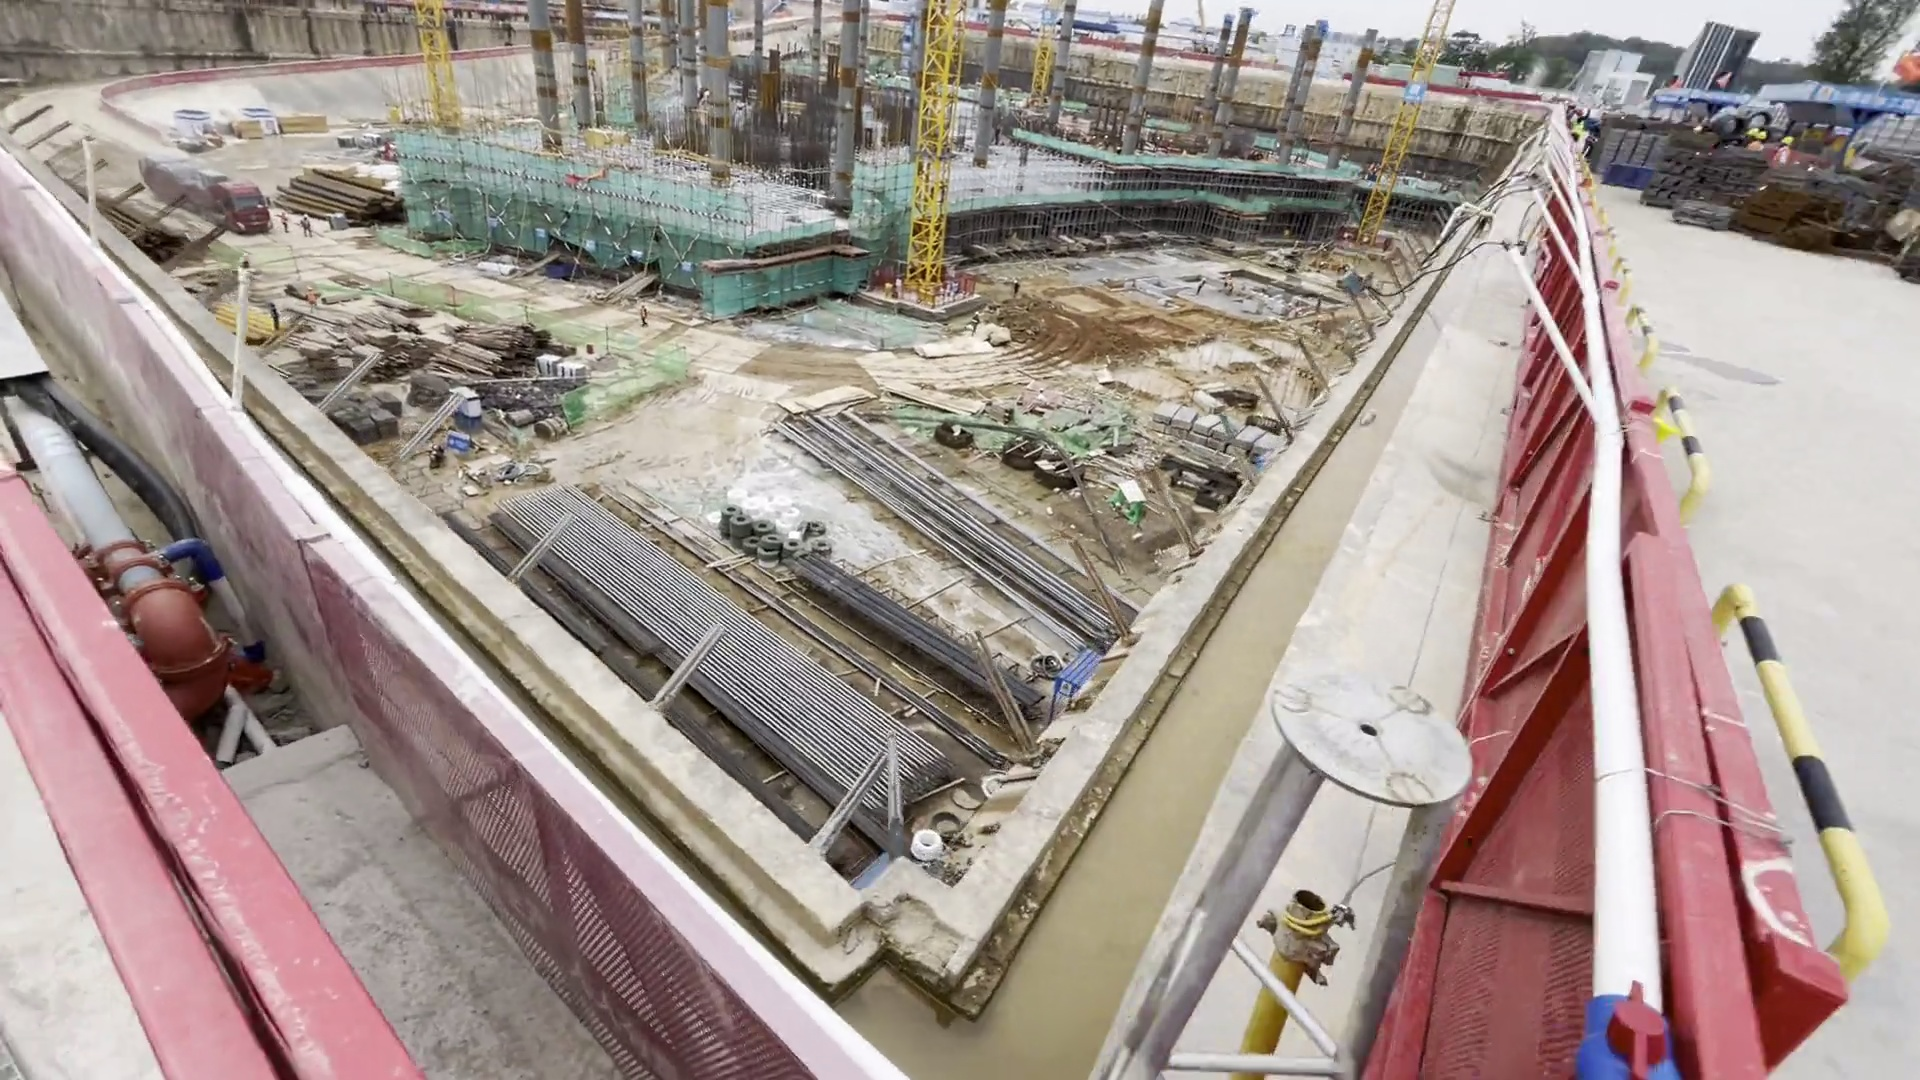brick: (1159, 411, 1279, 472), (537, 356, 586, 383)
ebox: (916, 285, 934, 306)
fence: (1478, 203, 1865, 1064), (2, 119, 422, 671)
helmet: (1781, 134, 1795, 146), (1574, 108, 1585, 116), (1758, 132, 1768, 139), (1750, 126, 1757, 135)
hopper: (1607, 160, 1652, 190), (545, 262, 581, 278)
person: (1776, 132, 1796, 167), (1570, 106, 1585, 145), (301, 211, 314, 241), (969, 310, 983, 339), (1194, 276, 1209, 299), (635, 302, 652, 326)
rebar: (803, 553, 1031, 709), (640, 657, 848, 791), (479, 511, 658, 655)
wood: (451, 318, 534, 374)
